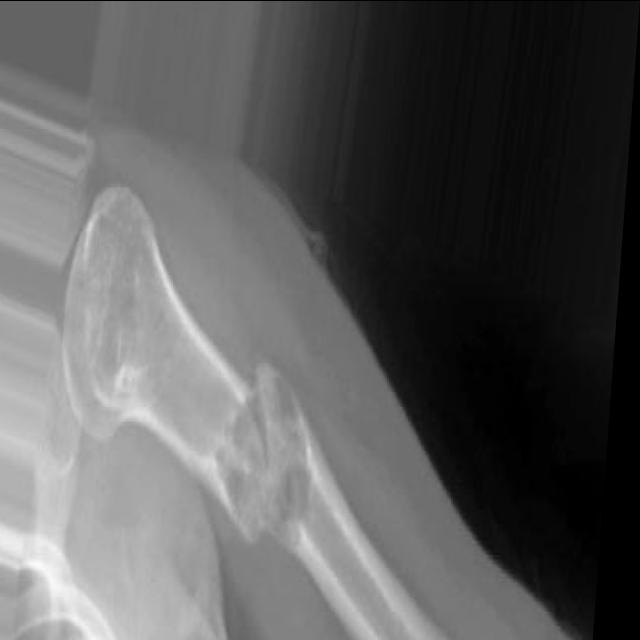fracture: (204, 347, 337, 573)
